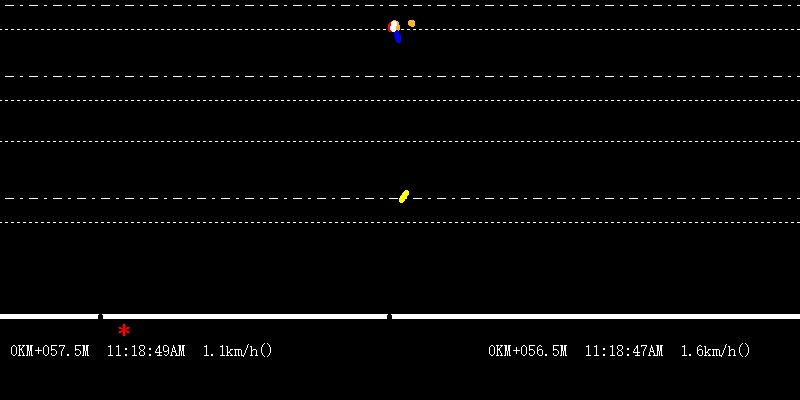face_s: (386, 19, 401, 44)
face_up: (403, 17, 417, 30)
star: (117, 322, 130, 336)
